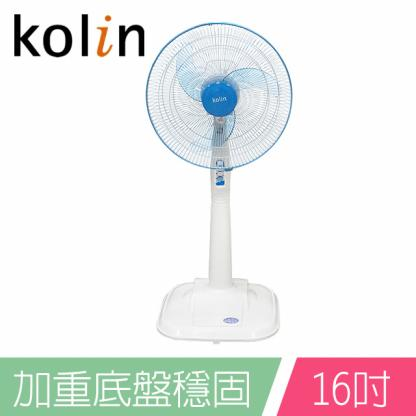fan: (145, 20, 296, 348)
